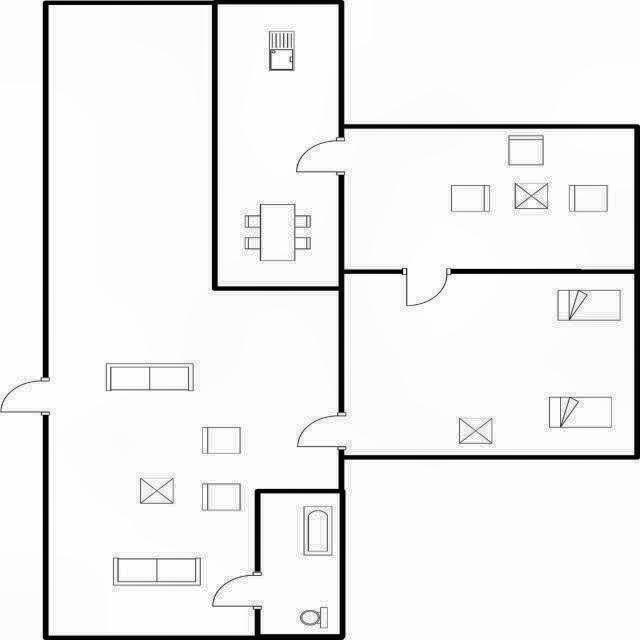room: (49, 5, 338, 636), (344, 274, 634, 455), (344, 129, 634, 270), (218, 4, 339, 286), (261, 493, 340, 634)
